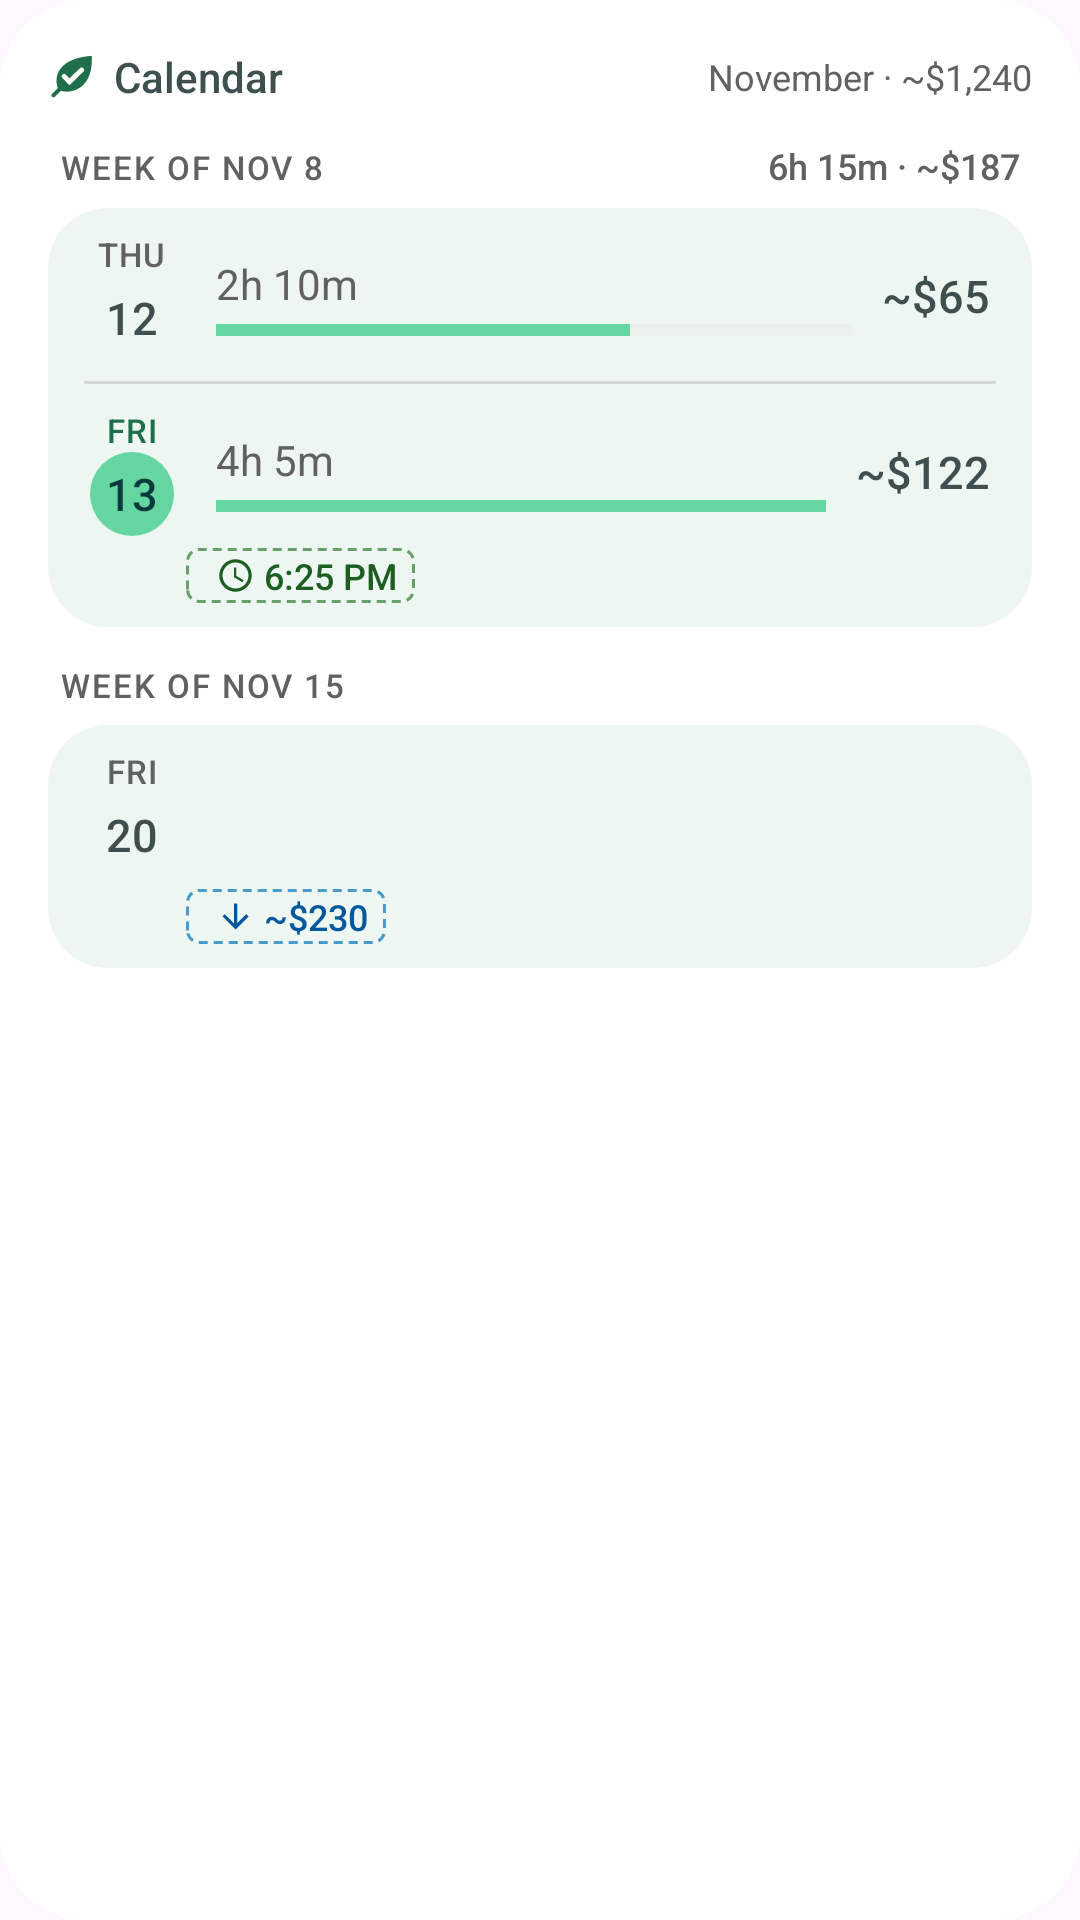

Named icons in this screenshot (1080*1920) and their centers, (x=x, y=y):
taskmint: (x=71, y=77)
